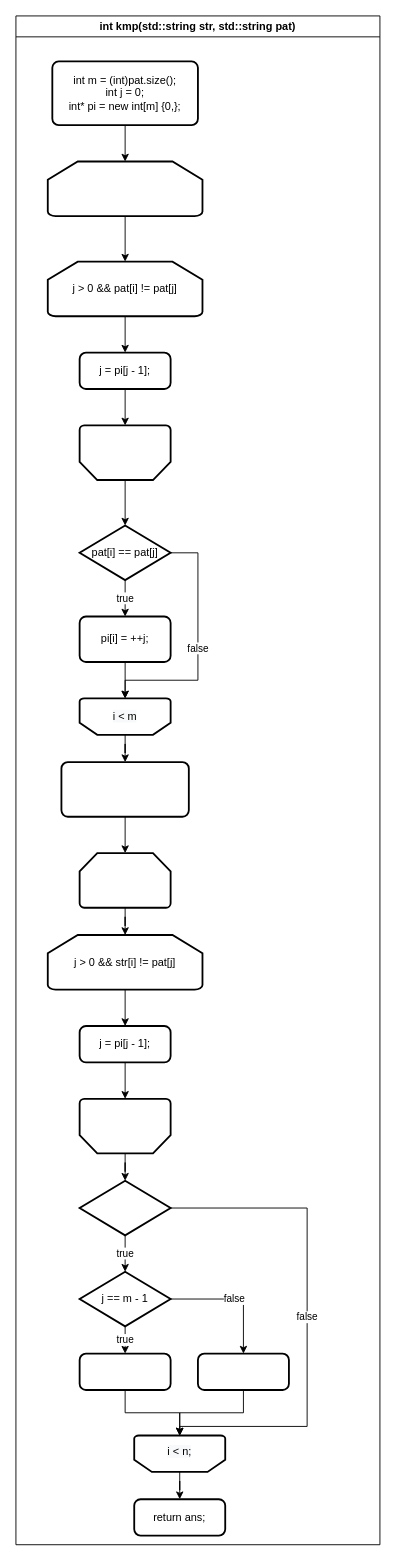
Image size: 396x1561. Some labels were removed from this diagram. Each missing label, with the box of its shape:
ans=i - m + 1; j = pi[j];: (78, 1352, 171, 1390)
int ans=-1; int n = (int)str.size(); j = 0;: (60, 761, 189, 817)
int i = 0; i++: (78, 852, 171, 908)
int i = 1; i++: (46, 160, 203, 217)
j++;: (197, 1352, 289, 1390)
str[i] == pat[j]: (78, 1179, 171, 1236)
